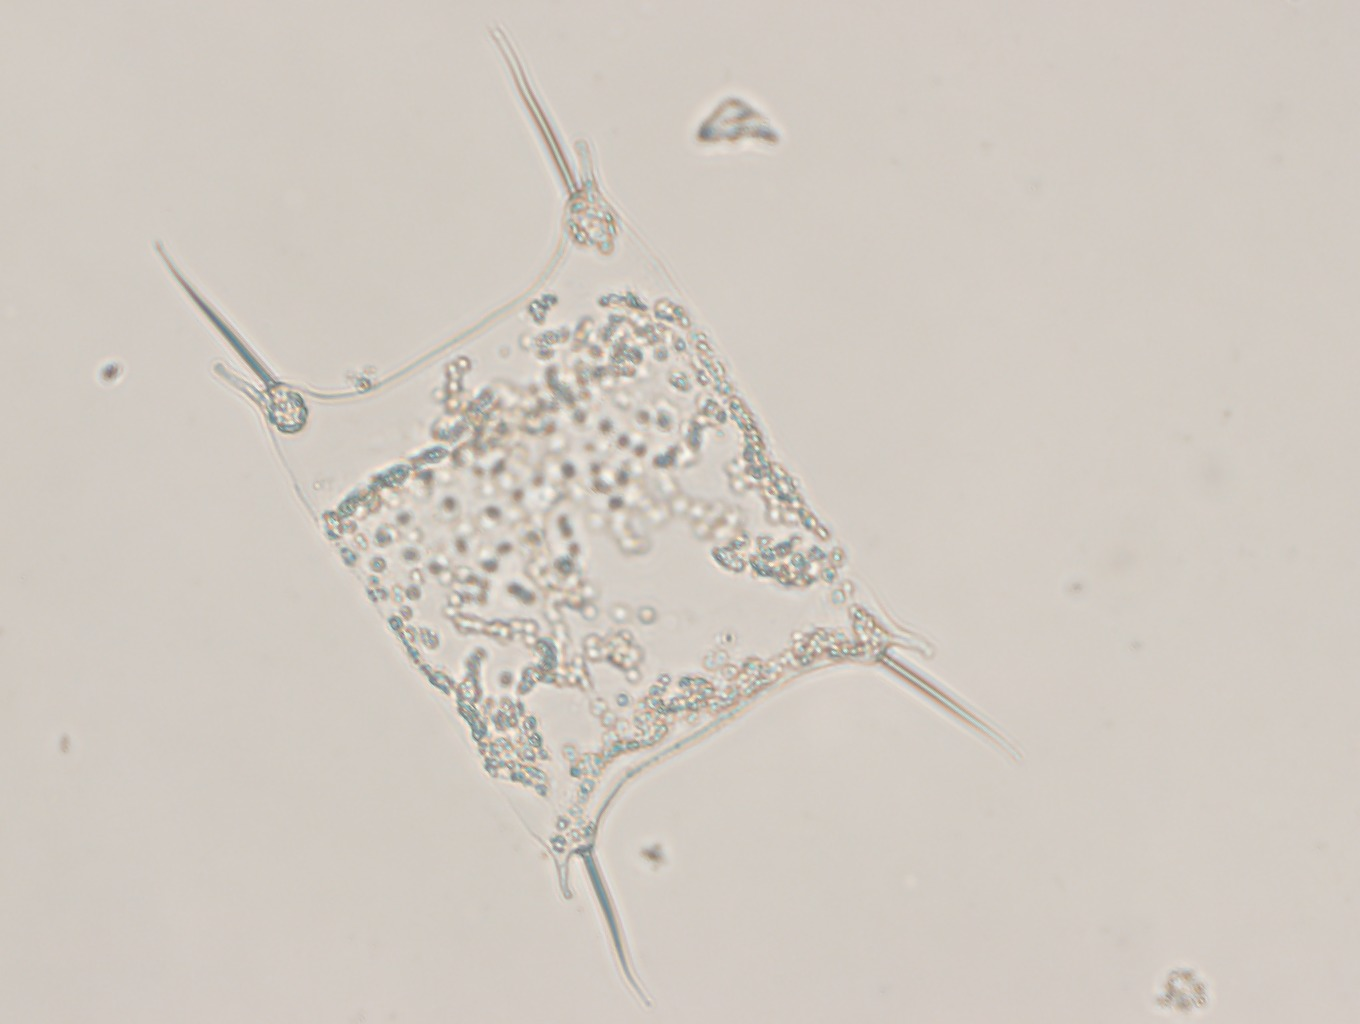biddulphia: (152, 22, 1021, 1002)
